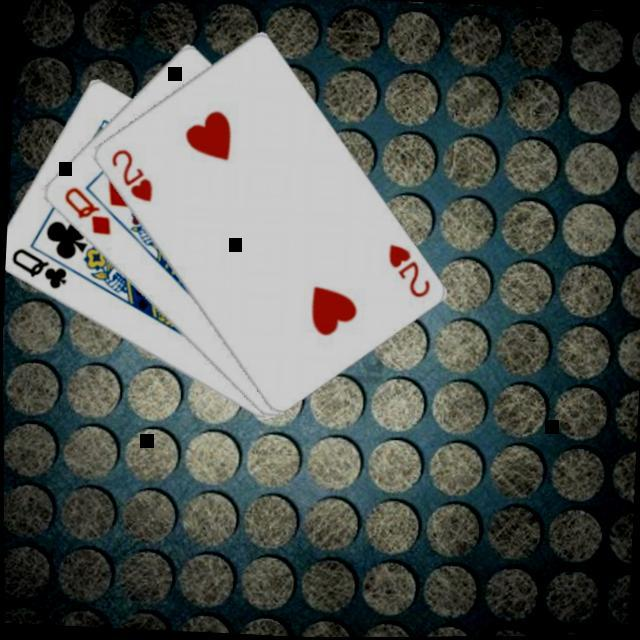2H: (102, 146, 155, 208), (380, 242, 432, 304)
QC: (4, 246, 68, 295)
QD: (56, 184, 113, 241)
